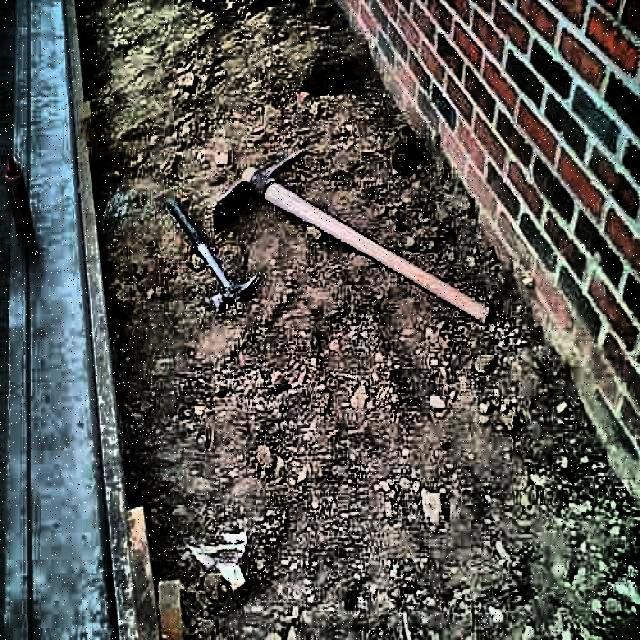hammer: (167, 196, 261, 312)
